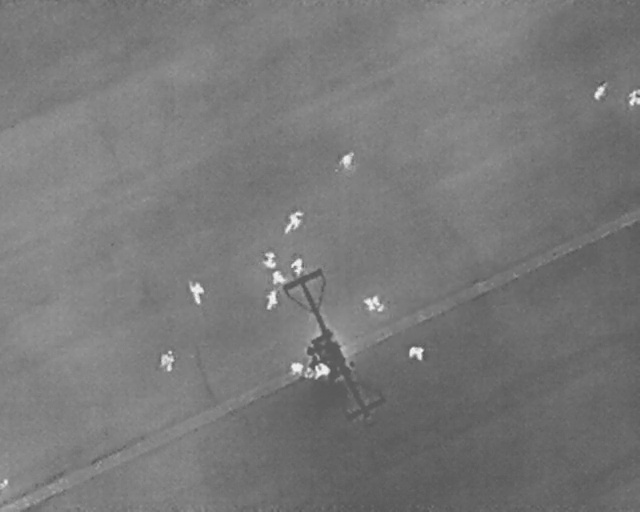Person: (277, 206, 306, 238), (360, 289, 388, 316), (334, 146, 359, 175), (186, 276, 208, 307), (262, 286, 282, 315), (590, 78, 612, 101), (159, 348, 176, 372), (290, 256, 304, 277), (315, 363, 330, 381), (407, 345, 423, 361), (626, 88, 640, 106), (271, 272, 285, 286), (290, 361, 303, 376), (264, 252, 275, 268)
